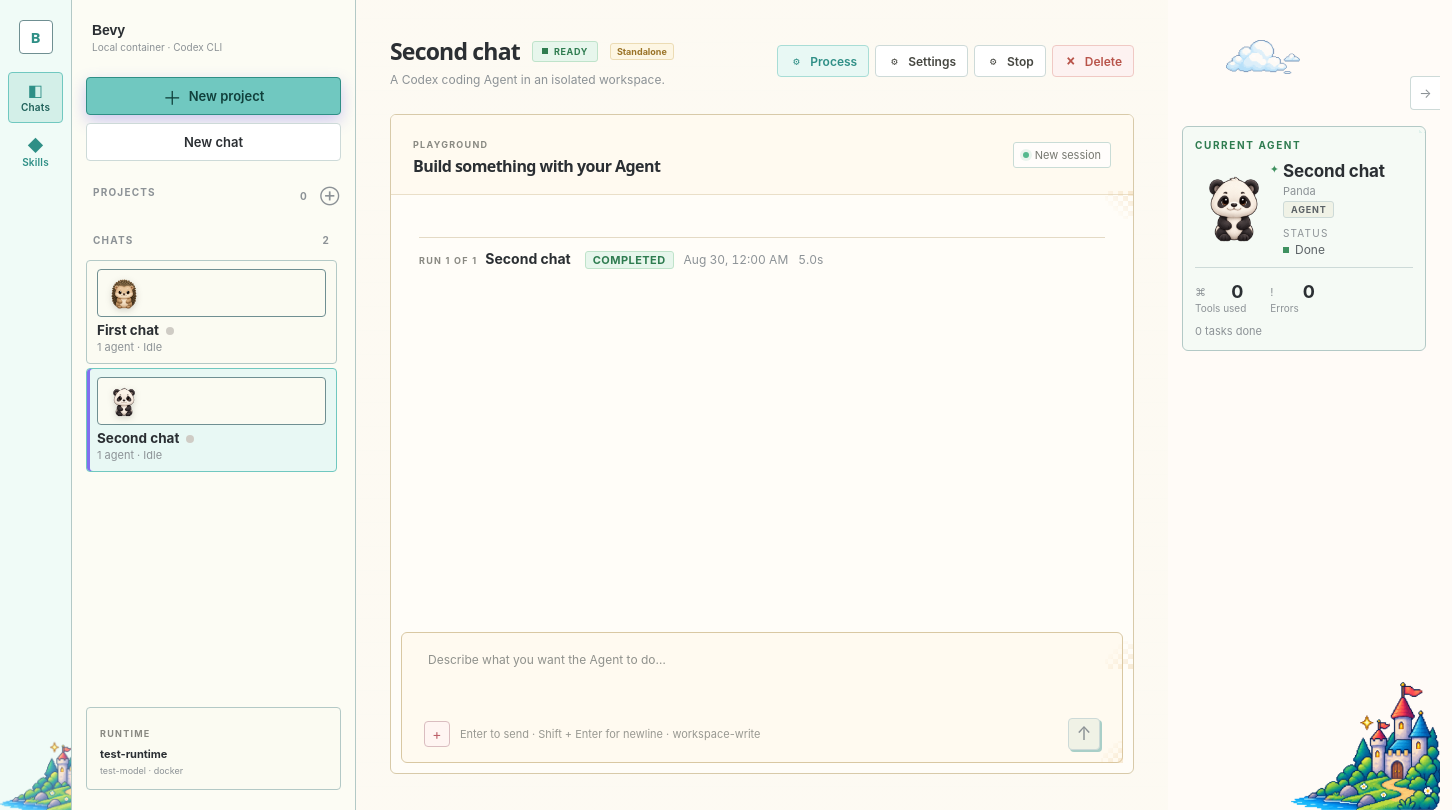
Test: collapsing the agent panel › puts the panel away and brings it back
The image size is (1452, 810).
Expected: the heading "Second chat" next to "ready" is shown, [390, 35, 520, 67]
Expected: the element named "Agent panel" is shown, [1168, 0, 1440, 809]
Click the button "→". click: (1425, 93)
box: [1410, 76, 1440, 110]
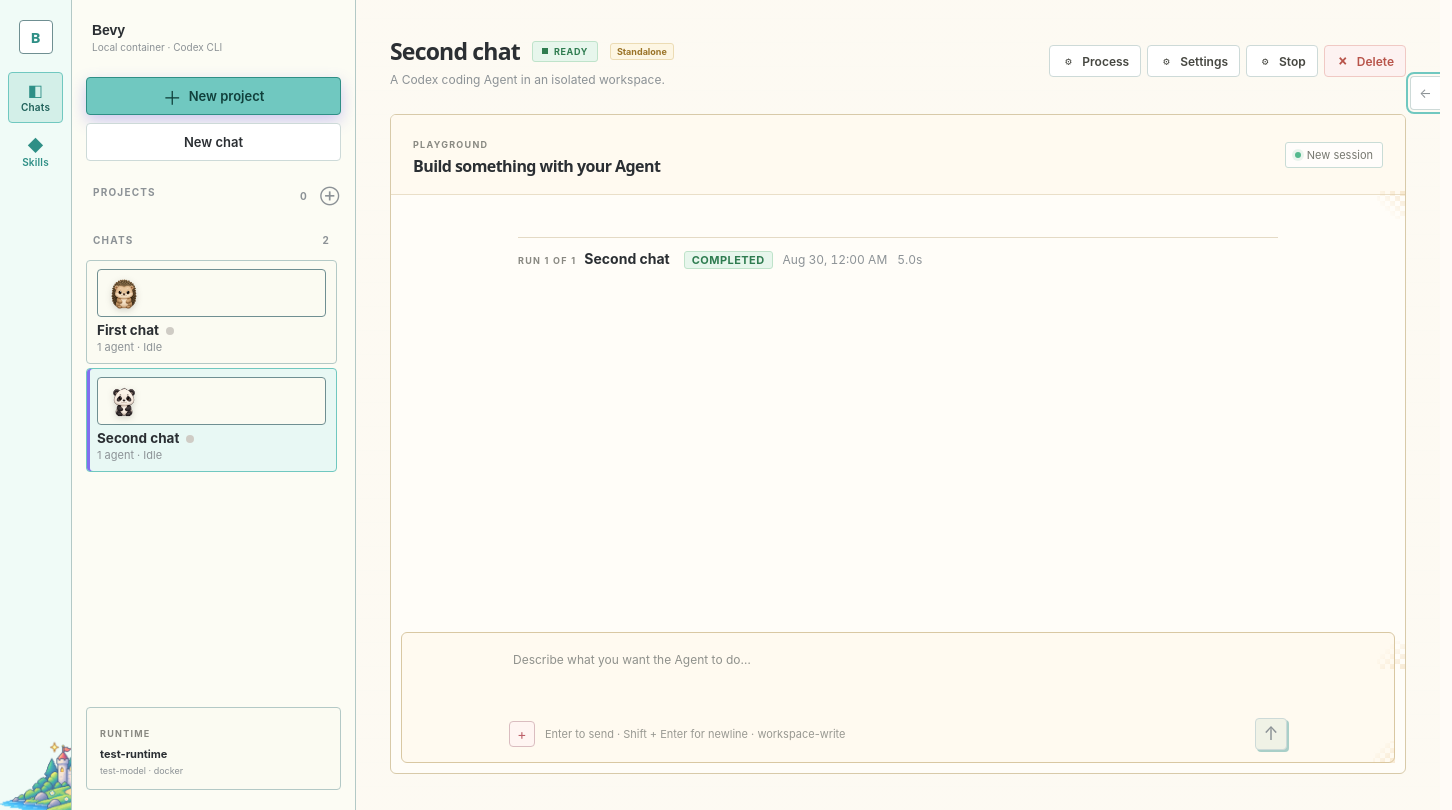
Expected: the button named "Show the agent panel" reads "←"
Click the button "←". click: (1425, 93)
box: [1410, 76, 1440, 110]
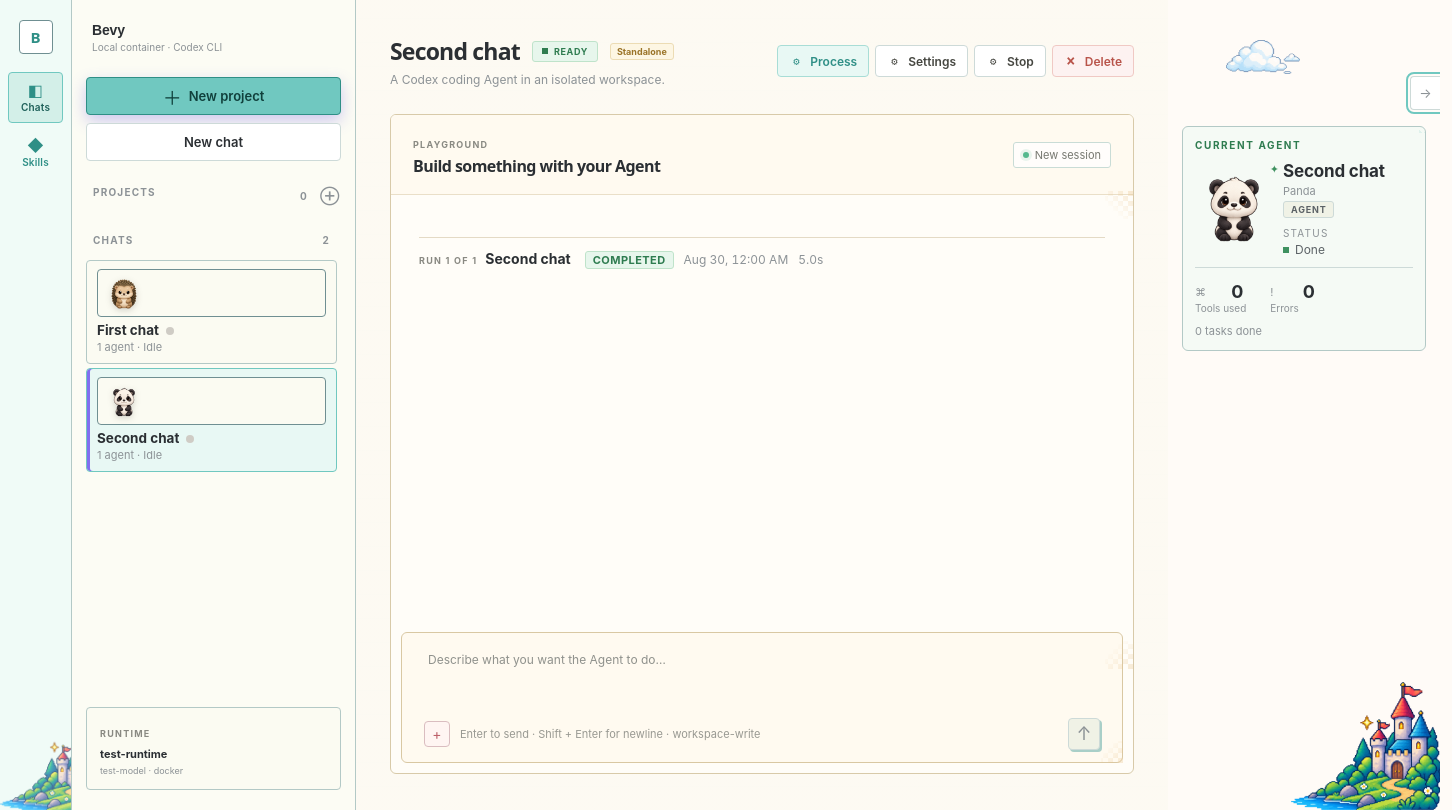
Expected: the element named "Agent panel" is shown, [1168, 0, 1440, 809]
